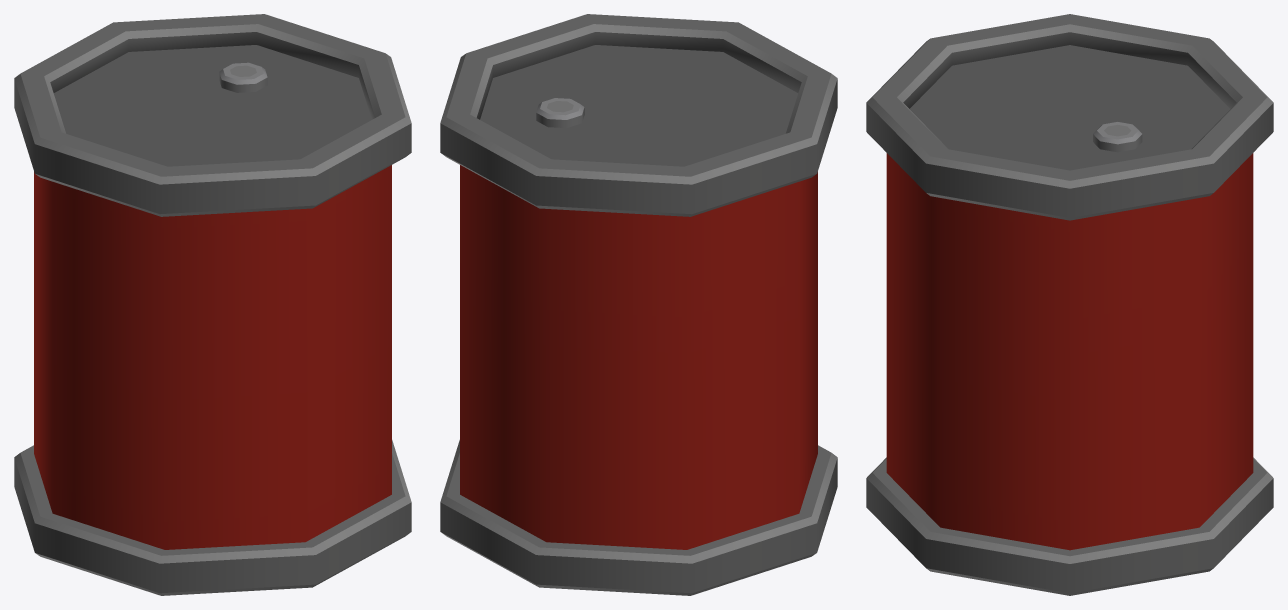
File: Barrel_1_A.fbx
3 renders of one model, left to right at view 1: azimuth 30°, elevation 25°; view 2: azimuth 150°, elevation 25°; view 3: azimuth 270°, elevation 25°, orthographic.
Parts seen in each view (by area): view 1: Barrel_1_A; view 2: Barrel_1_A; view 3: Barrel_1_A.
Boxes of the visible parts, x1=… form: Barrel_1_A: x1=14, y1=14, x2=411, y2=595; Barrel_1_A: x1=440, y1=14, x2=837, y2=595; Barrel_1_A: x1=866, y1=14, x2=1273, y2=595.
Bounding box in the file's own units: 90.41 × 102 × 90.41.
